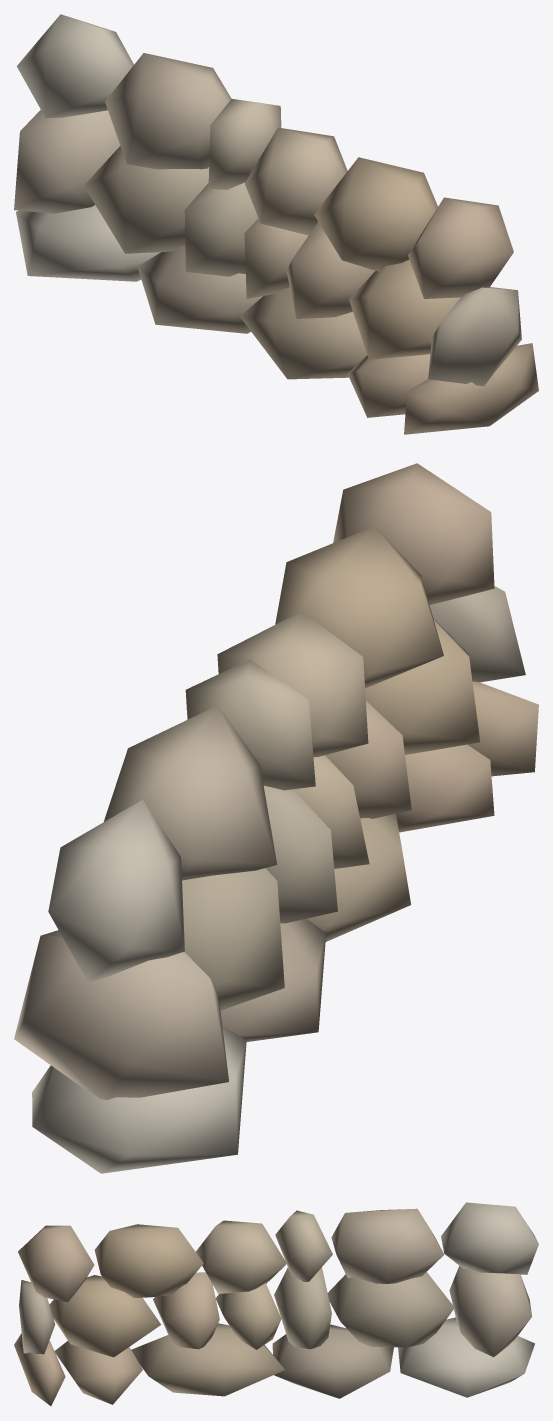
The model's file is farm_-5_11_near.glb.
3 renders of one model, top to bottom at view 1: azimuth 30°, elevation 25°; view 2: azimuth 150°, elevation 25°; view 3: azimuth 270°, elevation 25°, orthographic. The views are drawn at different scales.
Parts seen in each view (by area): view 1: geometry_0; view 2: geometry_0; view 3: geometry_0.
Part boxes in pixels (bbox=[...]): geometry_0: bbox=[14, 14, 538, 434]; geometry_0: bbox=[14, 463, 538, 1173]; geometry_0: bbox=[14, 1202, 538, 1406].
Size of the model in its own units: 1.2 by 1.22 by 3.14.
